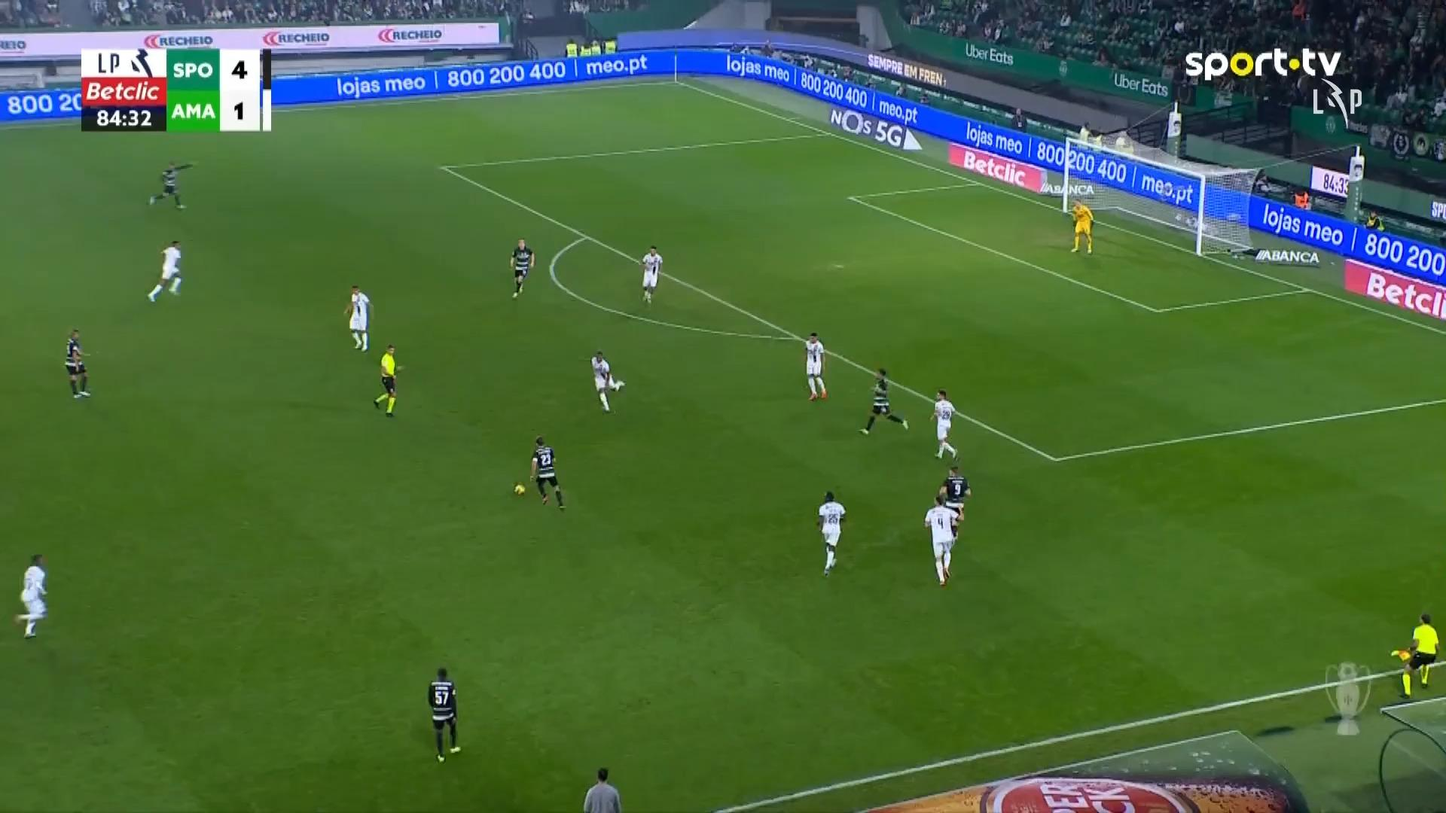ball: (513, 483, 525, 495)
goalkeeper: (1069, 198, 1094, 254)
player: (923, 492, 961, 586), (859, 367, 908, 435), (427, 666, 460, 763), (14, 553, 48, 638), (529, 436, 565, 510), (816, 490, 846, 577), (146, 239, 182, 303), (147, 160, 194, 209), (590, 350, 624, 413), (929, 388, 957, 459), (938, 465, 971, 524), (64, 327, 91, 398), (343, 285, 371, 352), (508, 238, 535, 299), (804, 332, 827, 401), (639, 245, 662, 303)
referee: (1396, 612, 1439, 698), (373, 343, 404, 417), (583, 766, 621, 811)
